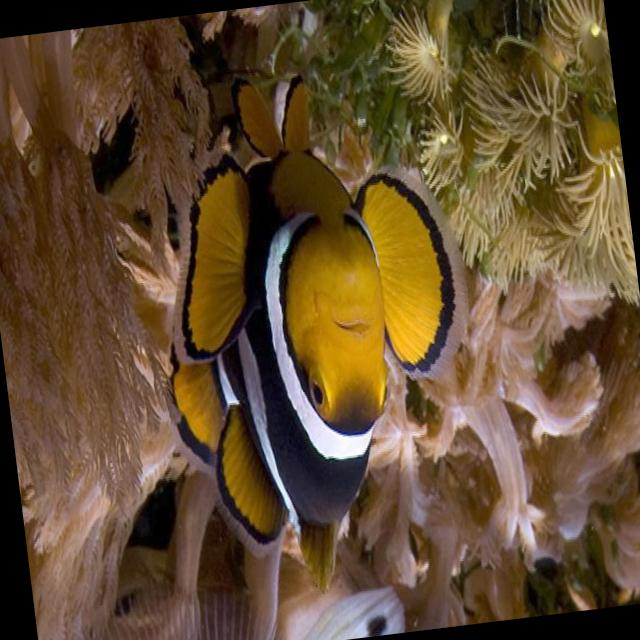ClownFish: (128, 57, 497, 608)
